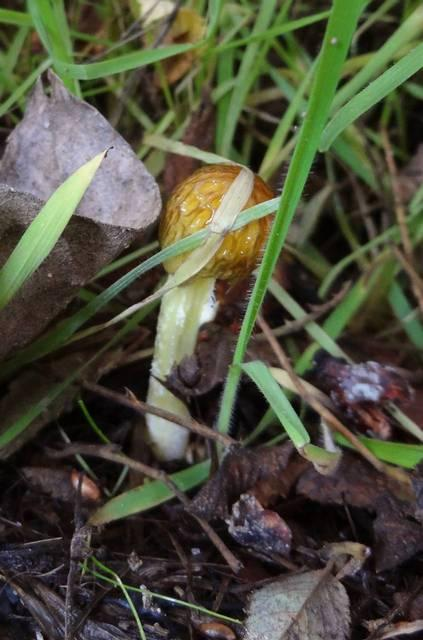edible_mushroom: (142, 161, 279, 462)
